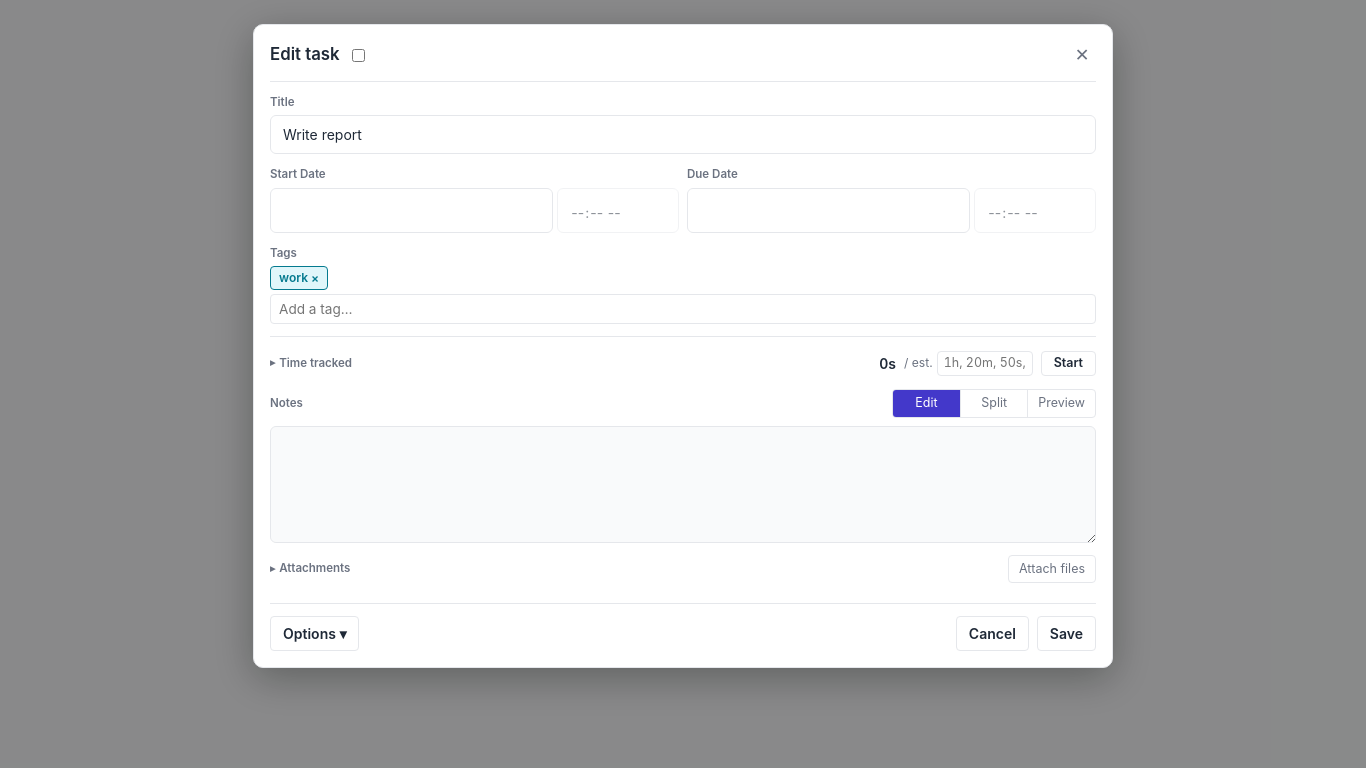
Scenario: TaskEditor date validation (#51) › blocks Save when the due date precedes the scheduled date
This screenshot has width=1366, height=768.
In the field labelled "Start Date": (412, 210) [270,188,553,232], type "2026-06-10"
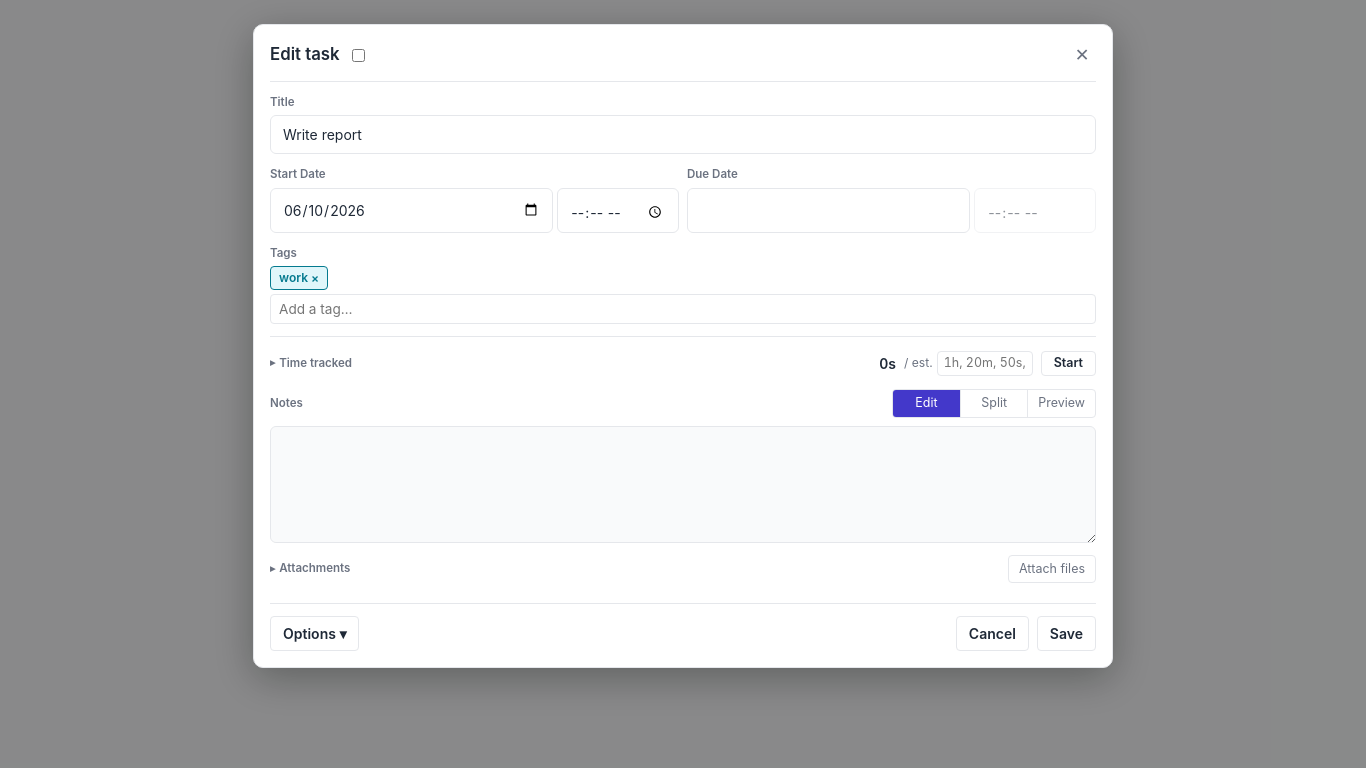
In the field labelled "Due Date": (829, 210) [687,188,970,232], type "2026-06-01"
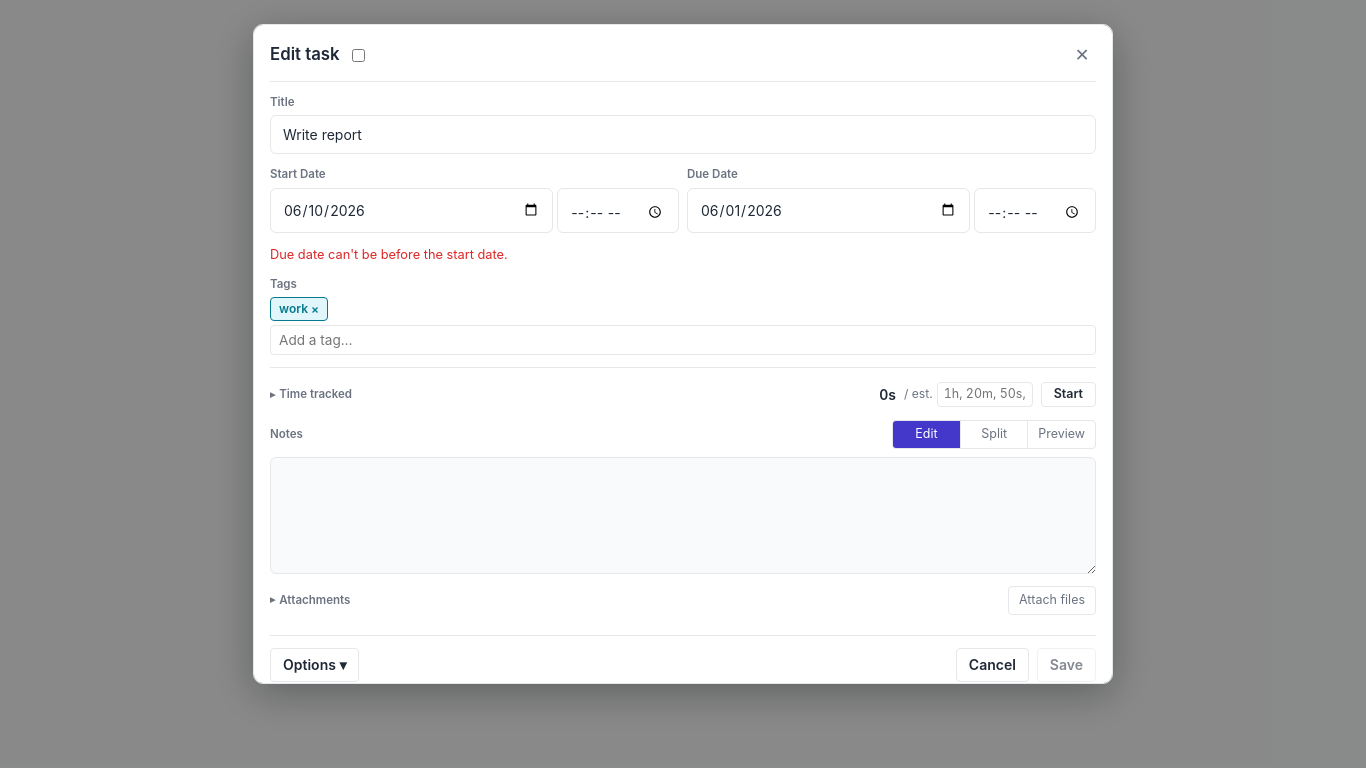
Check: the text "Due date can't be before the start date." is shown, box [270,246,508,262]
Check: the button "Save" is disabled, box [1037,648,1096,682]
